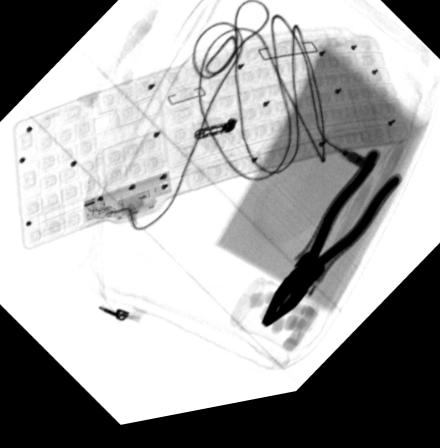Pliers: (258, 163, 402, 341)
